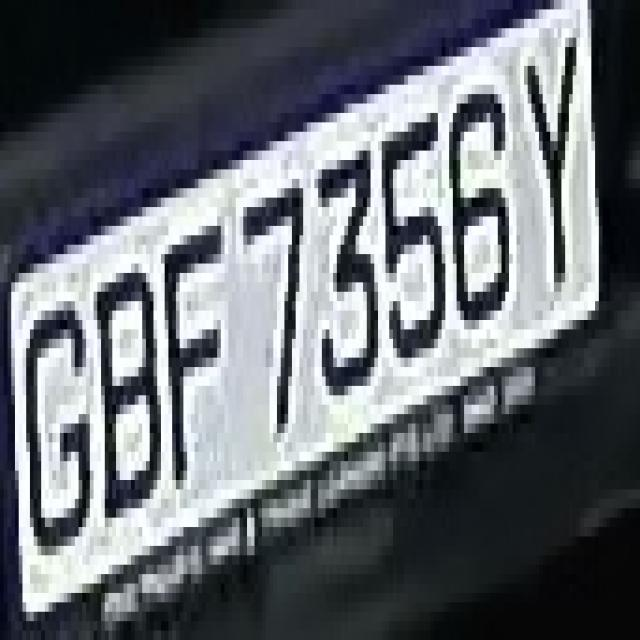3: (314, 132, 382, 433)
5: (374, 94, 457, 395)
6: (442, 85, 516, 367)
7: (228, 160, 318, 461)
B: (94, 235, 161, 527)
F: (150, 198, 240, 527)
G: (18, 264, 94, 574)
Y: (512, 0, 602, 301)
